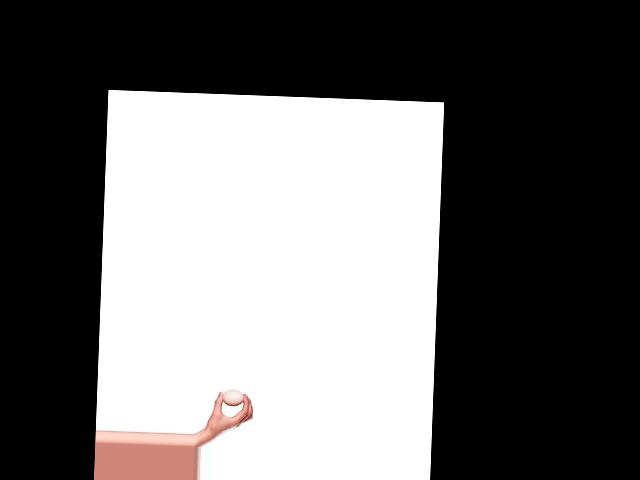egg: (221, 389, 244, 406)
